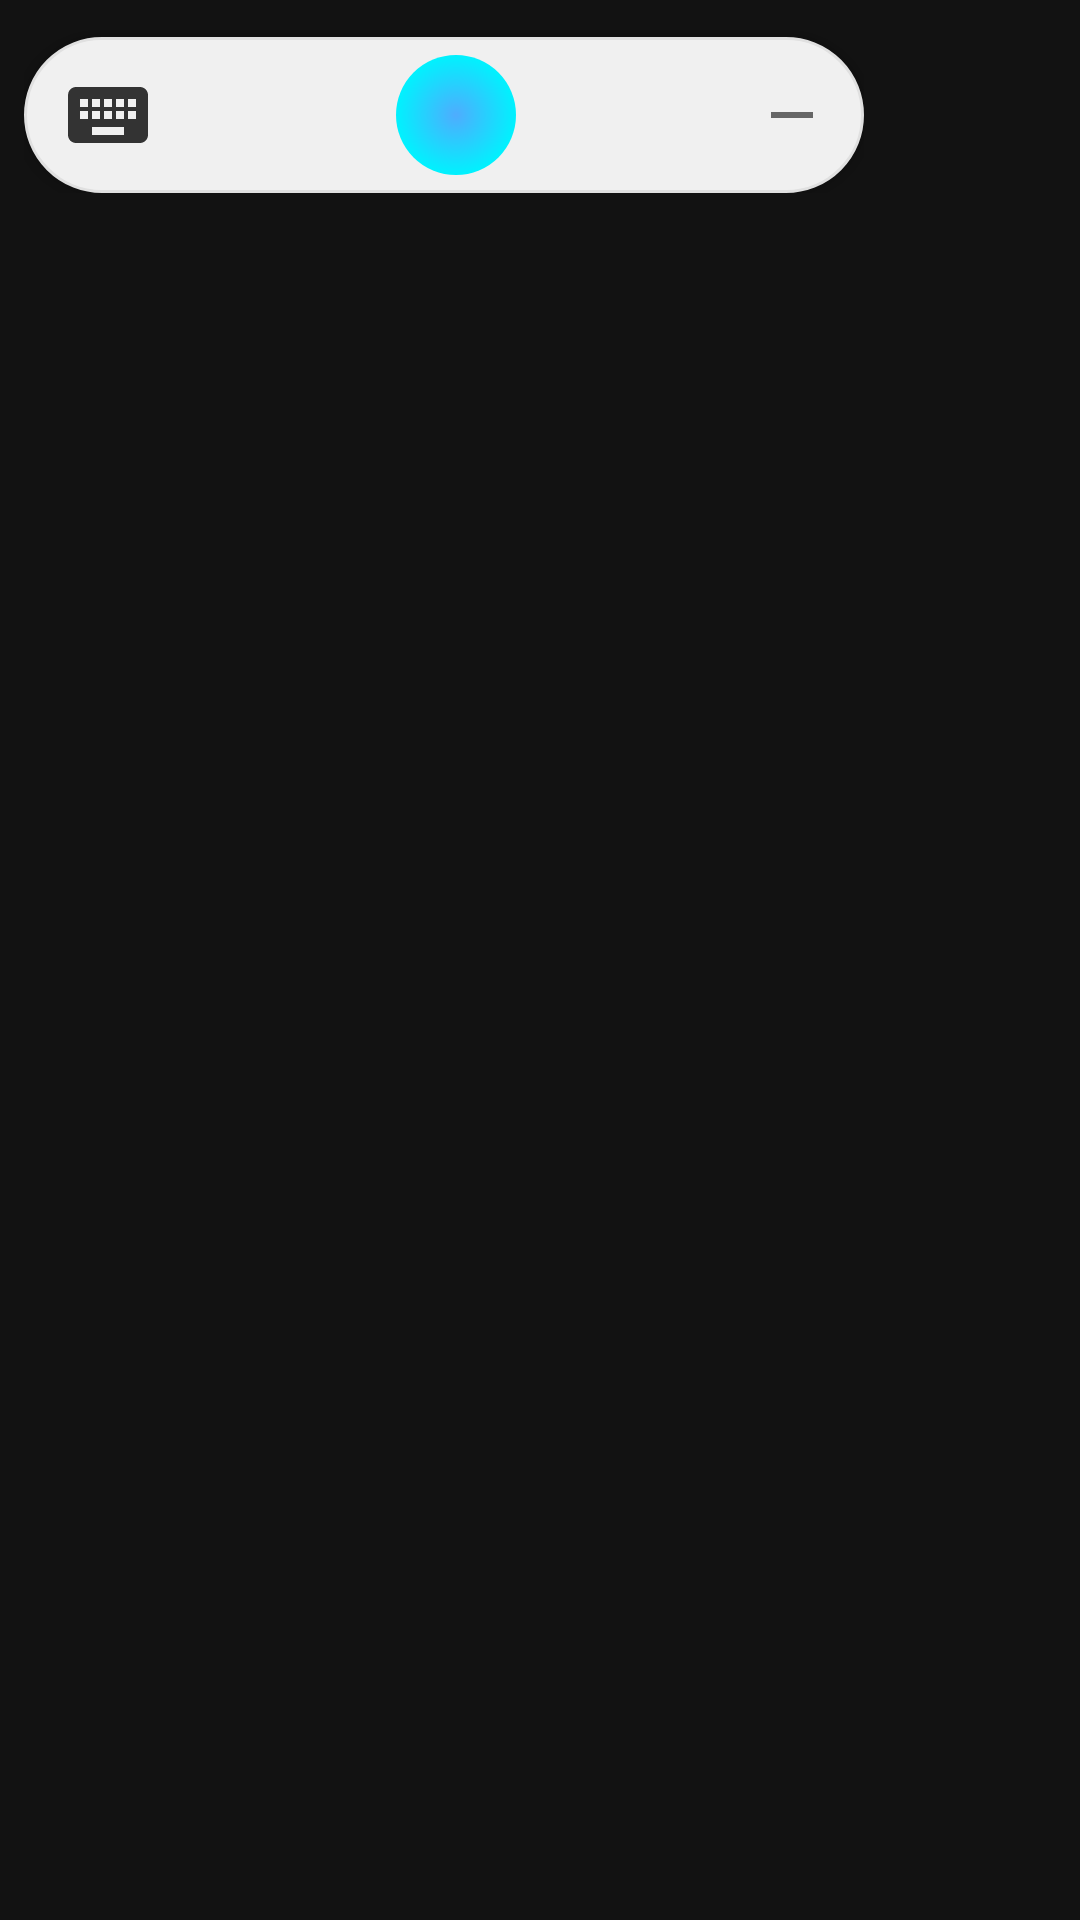

Named icons in this screenshot (1080px×1920px) and their centers, [x,y]:
keyboard: [108,115]
